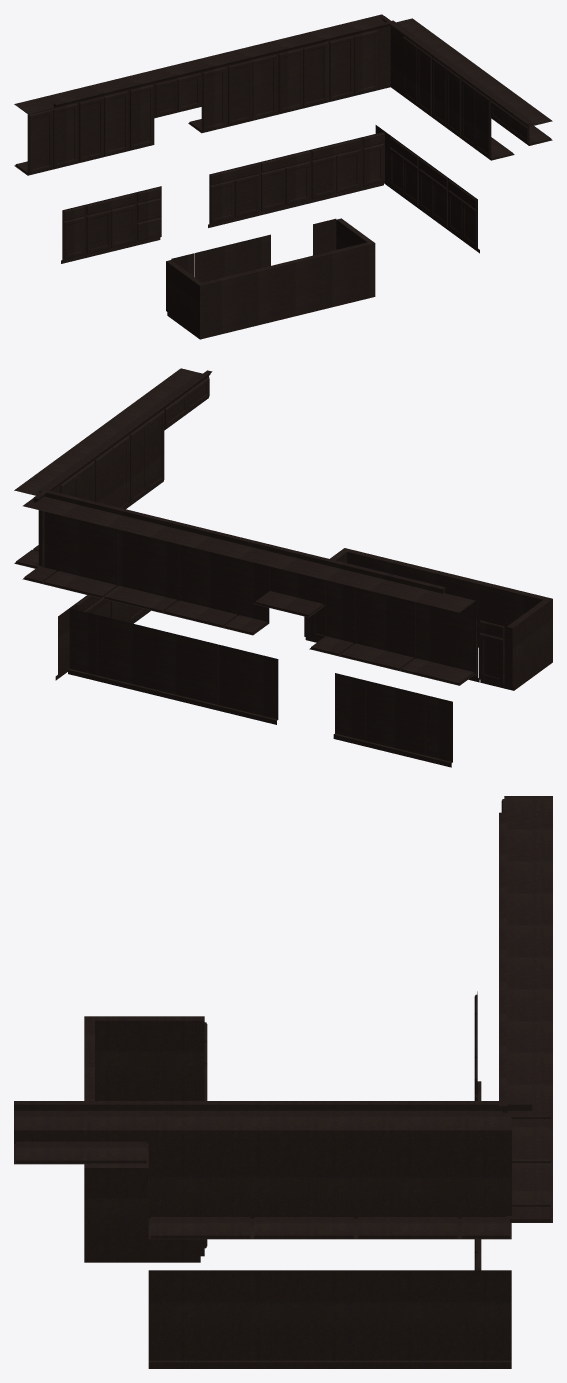
File: 1989_kitchen_cabinets_espresso.gltf
The picture shows the model from 3 angles, top to bottom: view 1: azimuth 30°, elevation 25°; view 2: azimuth 150°, elevation 25°; view 3: azimuth 270°, elevation 25°; orthographic projection. The views are drawn at different scales.
Visible parts, largest first — view 1: Cabinet_espresso.001; view 2: Cabinet_espresso.001; view 3: Cabinet_espresso.001.
Part boxes in pixels (left/top/right/bottom): Cabinet_espresso.001: left=14, top=14, right=552, bottom=339; Cabinet_espresso.001: left=14, top=368, right=552, bottom=767; Cabinet_espresso.001: left=14, top=796, right=552, bottom=1368.
Size of the model in its own units: 7.63 by 2.93 by 5.2.
1 material, 1 textured.
